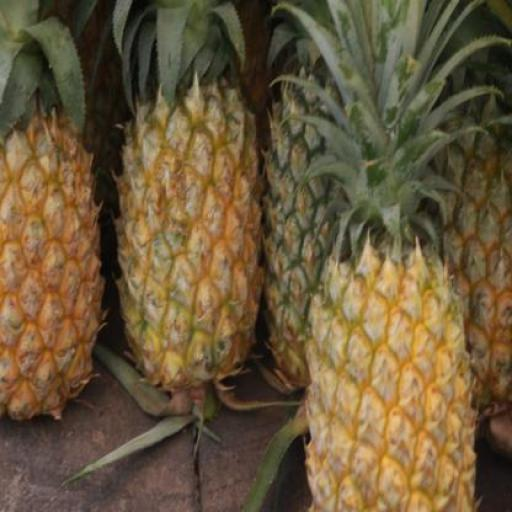------------------------------: (113, 86, 257, 392)
Pineapple - v8 v1: (298, 236, 466, 511), (0, 122, 102, 413)
